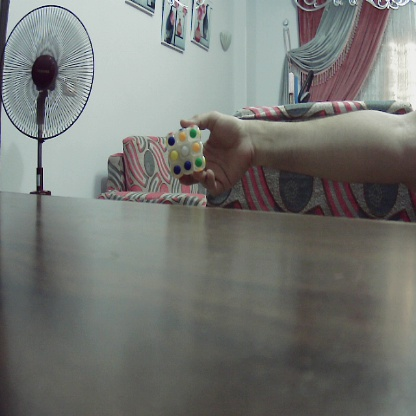Rubix Cube: (165, 126, 206, 174)
